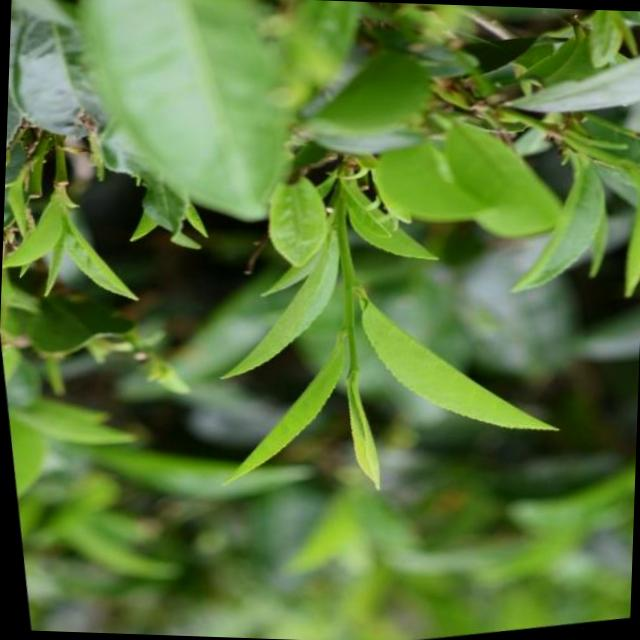Stem: (342, 318, 353, 330)
